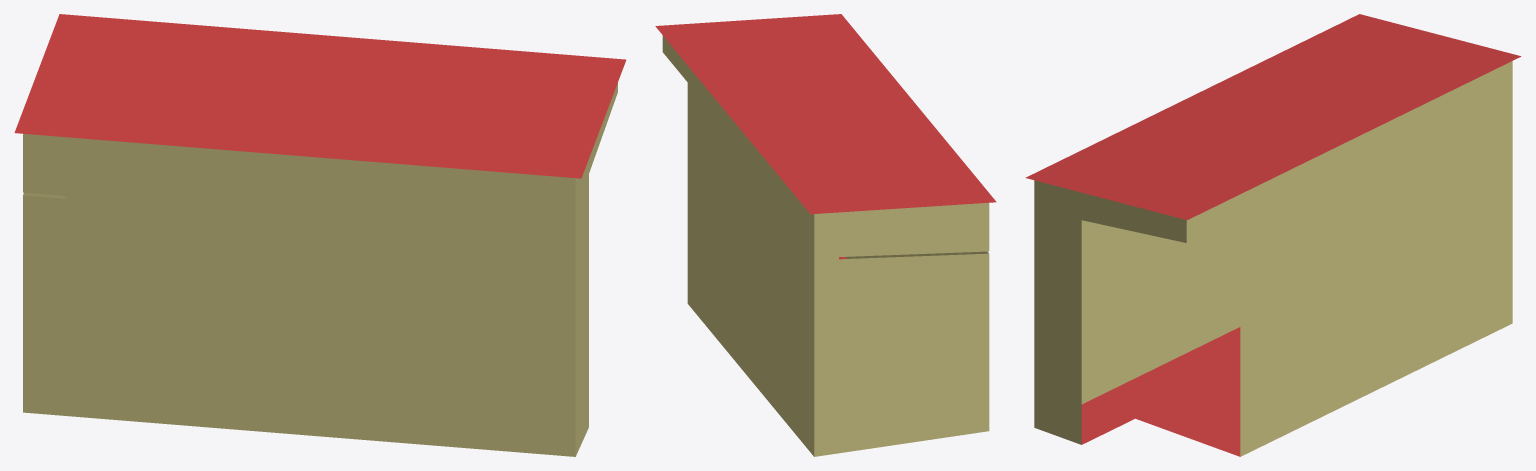
3 views of the same model, side by side, from view 1: azimuth 30°, elevation 25°; view 2: azimuth 150°, elevation 25°; view 3: azimuth 270°, elevation 25° (orthographic). The views are drawn at different scales.
Bounding box in the file's own units: 20.32 × 19.12 × 11.34.
